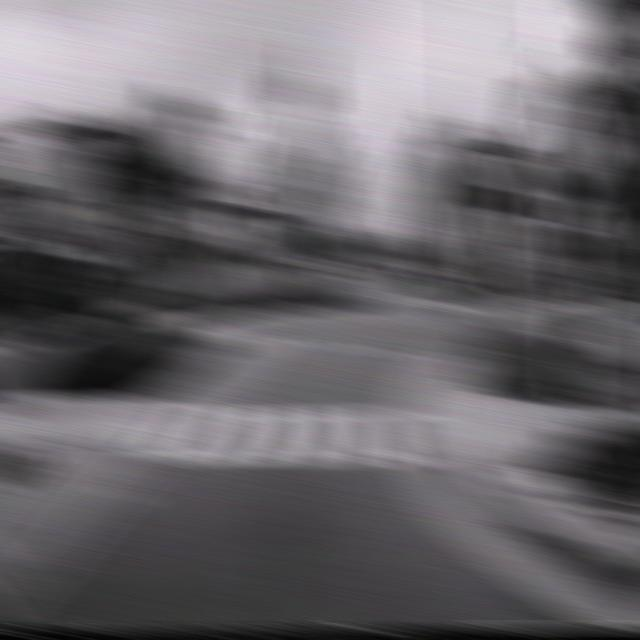pedestrianCrossing: (528, 72, 612, 196)
yield: (446, 146, 497, 201), (244, 134, 289, 179)
